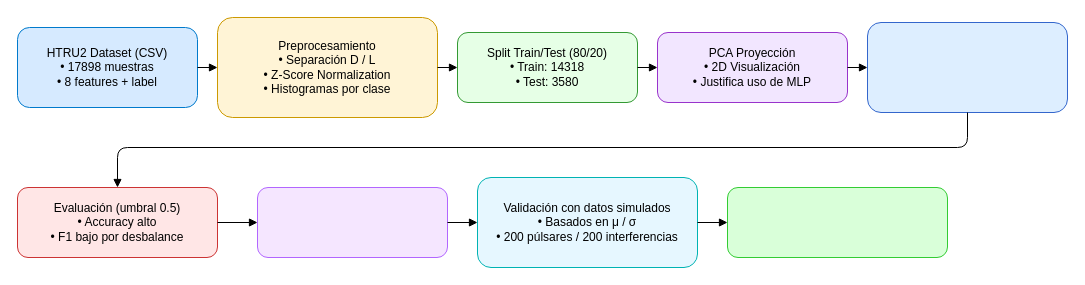
This 1085x285 diagram has some shape labels left out. Each missing label, with the box of its shape:
Ajuste de Umbral • Curva ROC • F1 máximo → 0.462: (256, 186, 448, 258)
Entrenamiento del MLP • 8 → 16 → 8 → 1 • ReLU + Sigmoid • BCELoss + Adam: (866, 22, 1068, 112)
Evaluación final del modelo • Accuracy / F1 / AUC • MLP con umbral ajustado: (726, 186, 948, 258)
